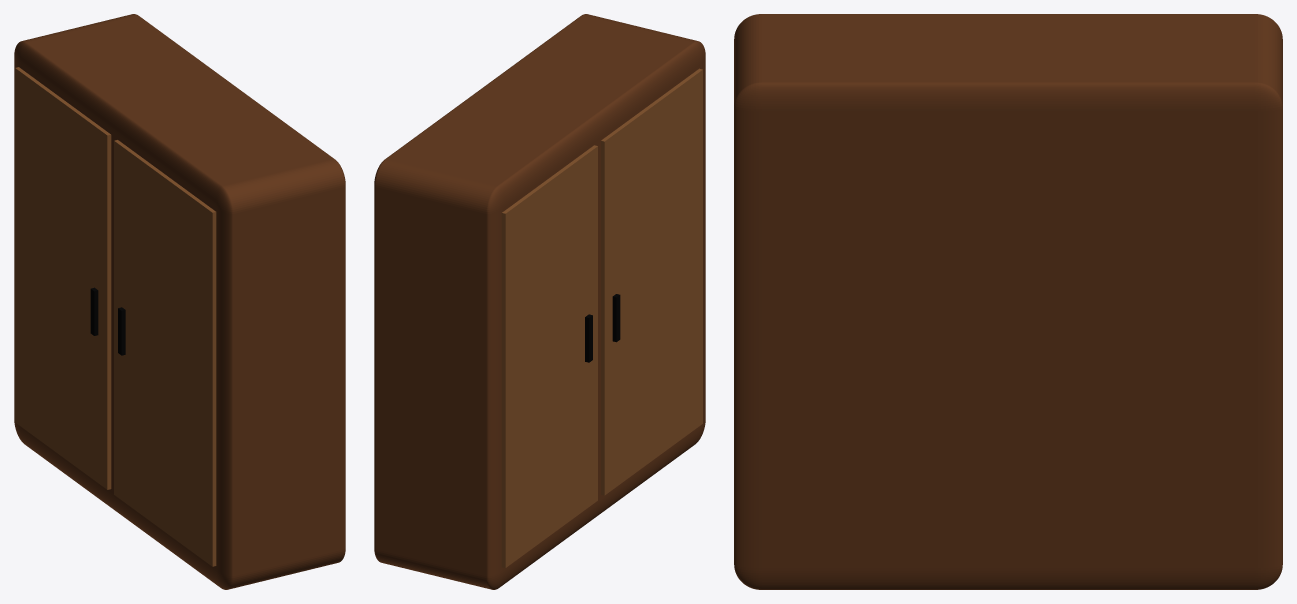
Rendered from bigSquare.fbx.
3 renders of one model, left to right at view 1: azimuth 30°, elevation 25°; view 2: azimuth 150°, elevation 25°; view 3: azimuth 270°, elevation 25°, orthographic. The views are drawn at different scales.
Visible parts, largest first — view 1: Cube, Cube.001, Cube.002; view 2: Cube, Cube.001, Cube.002; view 3: Cube.
Boxes of the visible parts, <box> form: Cube: <box>14,14,345,589</box>; Cube.001: <box>114,140,216,566</box>; Cube.002: <box>15,67,111,489</box>; Cube: <box>374,14,705,589</box>; Cube.001: <box>601,68,702,495</box>; Cube.002: <box>501,145,597,567</box>; Cube: <box>734,14,1282,589</box>.
Size of the model in its own units: 213 by 626 by 613.
